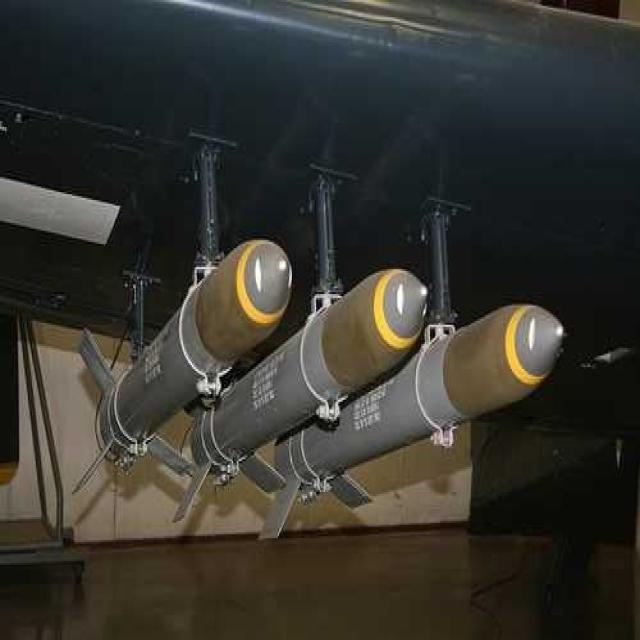missile: (266, 298, 568, 536), (186, 274, 433, 500), (105, 226, 300, 505)
